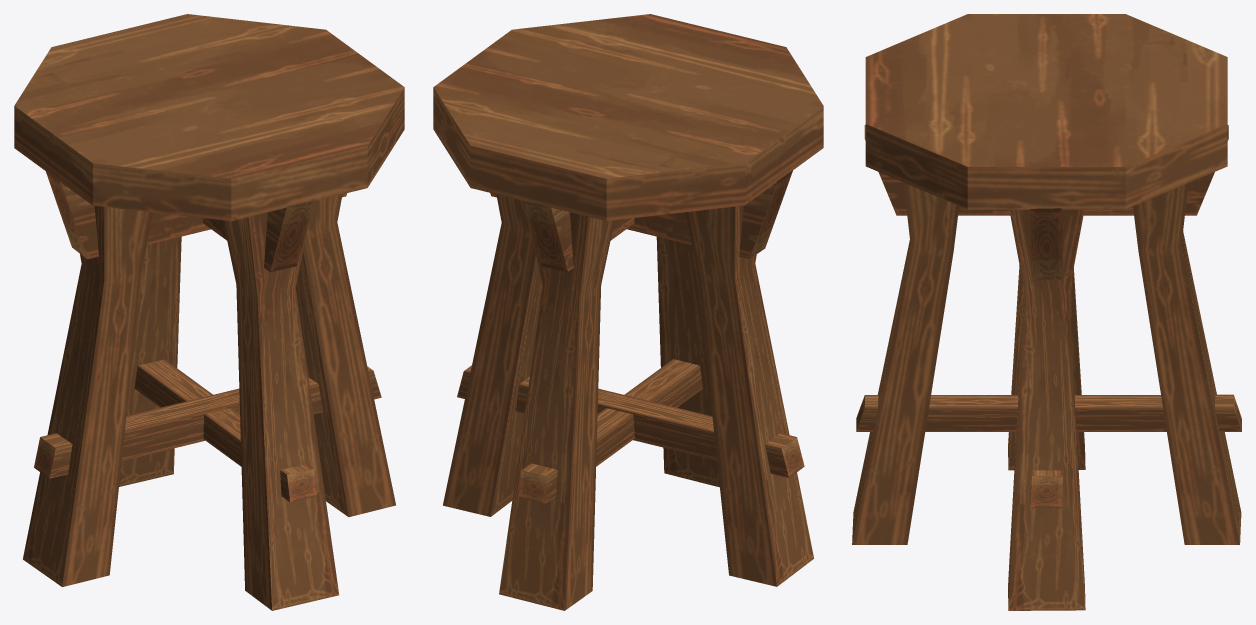
File: Stool.fbx
The picture shows the model from 3 angles, left to right: view 1: azimuth 30°, elevation 25°; view 2: azimuth 150°, elevation 25°; view 3: azimuth 270°, elevation 25°; orthographic projection.
Visible parts, largest first — view 1: Stool; view 2: Stool; view 3: Stool.
Boxes of the visible parts, x1=… form: Stool: x1=14, y1=14, x2=404, y2=610; Stool: x1=433, y1=14, x2=823, y2=610; Stool: x1=852, y1=14, x2=1241, y2=610.
Size of the model in its own units: 47.46 by 58.87 by 47.46.
